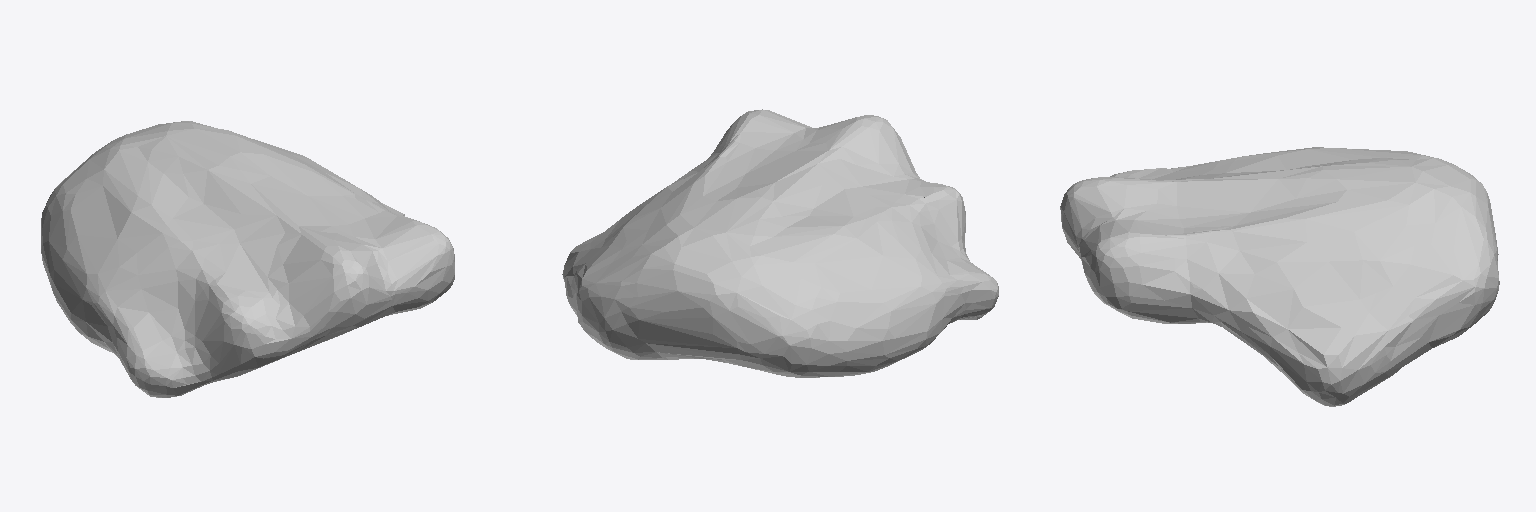
File: HandPalm.obj
3 views of the same model, side by side, from view 1: azimuth 30°, elevation 25°; view 2: azimuth 150°, elevation 25°; view 3: azimuth 270°, elevation 25° (orthographic).
Visible parts, largest first — view 1: Cube; view 2: Cube; view 3: Cube.
Part boxes in pixels (x1,y1,x2,y2): Cube: (41,121,454,397); Cube: (562,109,998,377); Cube: (1060,147,1499,406).
Bounding box in the file's own units: 2.61 × 1.1 × 2.8.